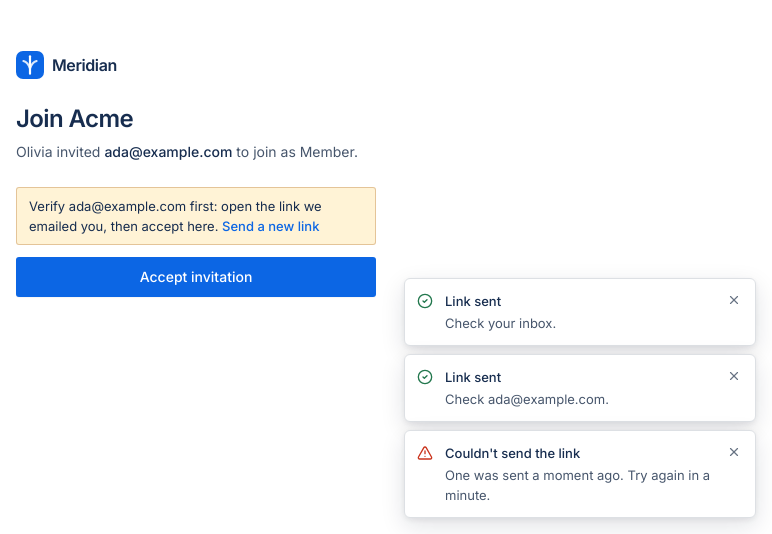
email verification › explains on an invitation that the address must be verified first
Check: the text "Verify ada@example.com first" is shown, box [16,187,376,245]
Click the button "Accept invitation".
click(196, 277)  # box [16,257,376,297]
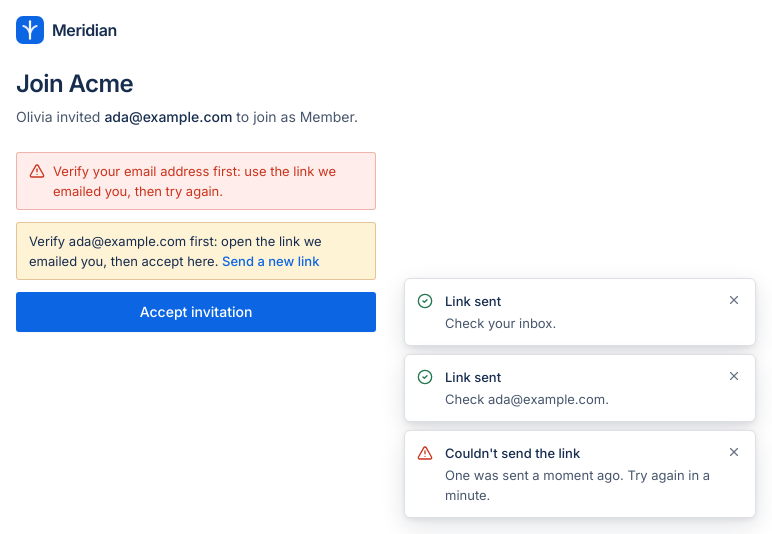
Check: the text "Verify your email address first: use the link we emailed you, then try again." is shown, box [53,161,363,201]
